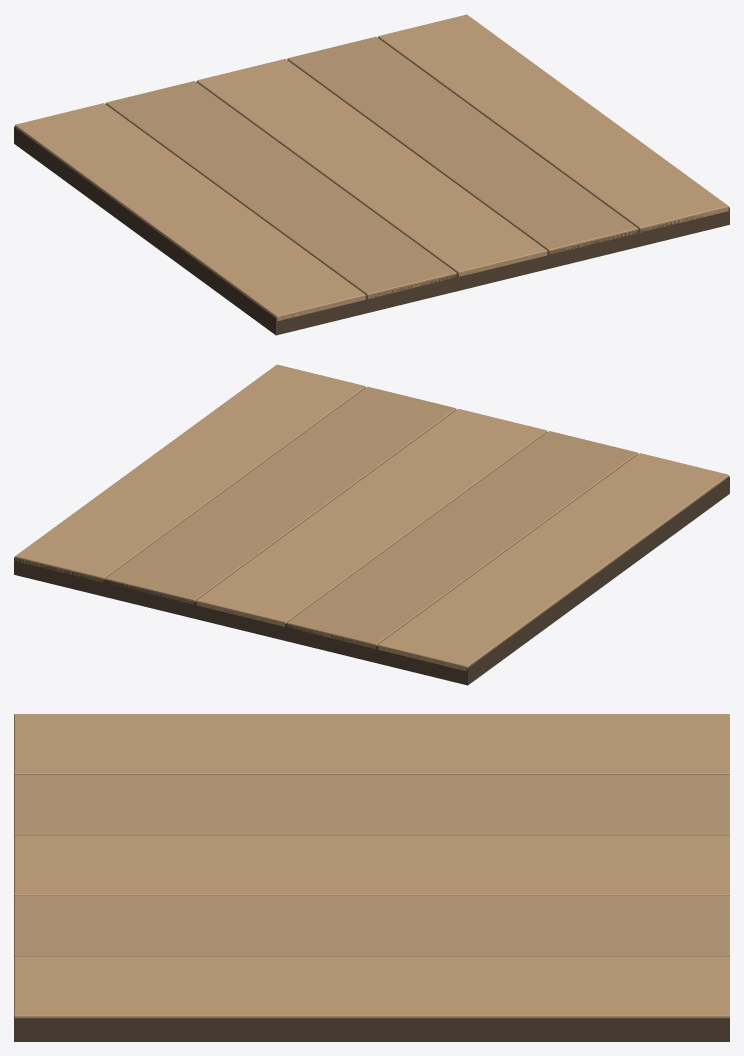
File: piso_tablas.glb
3 views of the same model, one above another, from view 1: azimuth 30°, elevation 25°; view 2: azimuth 150°, elevation 25°; view 3: azimuth 270°, elevation 25° (orthographic). The views are drawn at different scales.
Visible parts, largest first — view 1: piso_tablas; view 2: piso_tablas; view 3: piso_tablas.
Boxes of the visible parts, box(x1,y1,x2,y2) form: piso_tablas: box(14, 14, 729, 335); piso_tablas: box(14, 364, 729, 685); piso_tablas: box(14, 714, 729, 1041).
Bounding box in the file's own units: 1 × 0.04 × 1.
